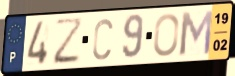4: (26, 19, 50, 68)
9: (121, 12, 145, 62)
C: (91, 16, 115, 62)
M: (178, 8, 215, 57)
O: (152, 12, 180, 59)
Z: (53, 16, 84, 67)
